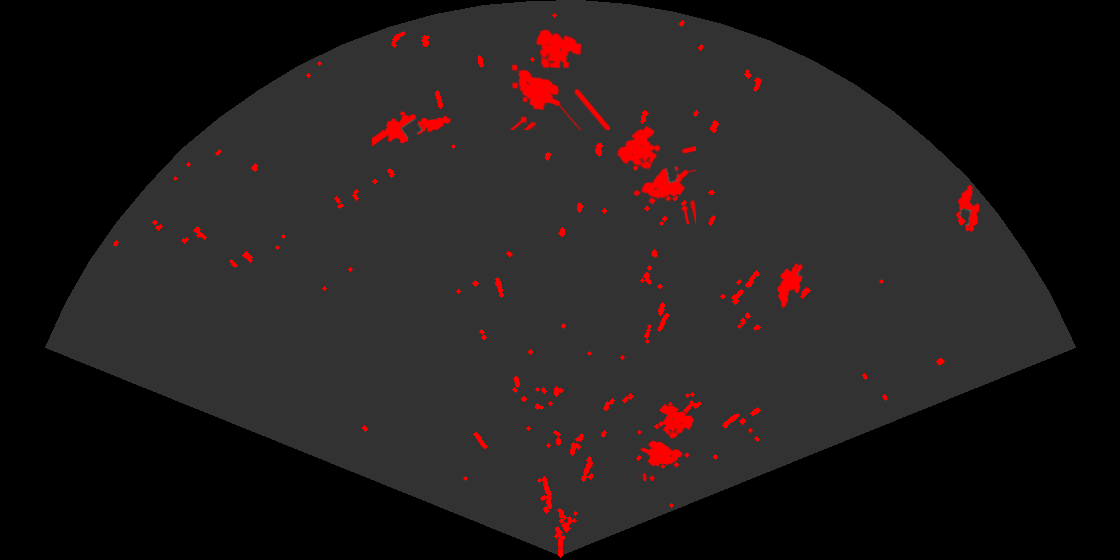AUV: (954, 183, 981, 234), (776, 262, 804, 309)
cage: (508, 28, 610, 130), (615, 124, 696, 224), (638, 402, 696, 481)
frogman: (372, 110, 452, 148)
